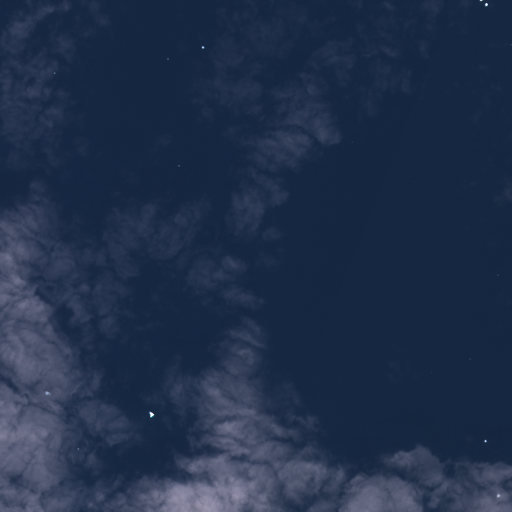Iceberg: (149, 411, 154, 417), (45, 391, 50, 394), (201, 45, 204, 48), (497, 494, 500, 497), (485, 3, 487, 6), (484, 439, 486, 442), (479, 0, 482, 1), (53, 72, 55, 73), (77, 448, 79, 449), (167, 58, 168, 59), (178, 165, 179, 166)
